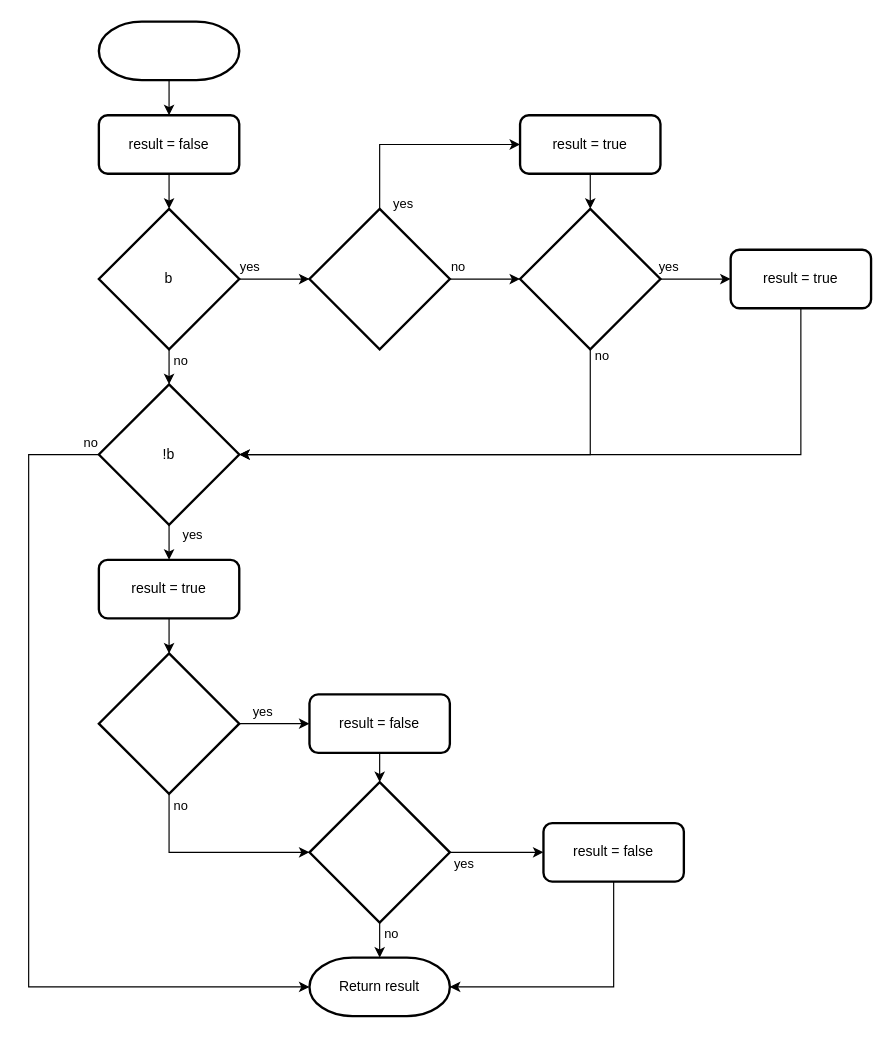
Some shapes in this 893 by 1037 pixel diagram are drawn without their labels. Each missing label, with the centre of its shape:
"(i <= -3 AND i >= -6) OR (i >= 3 AND i <= 6)" belongs at point 379,851.
"(i <= 3 AND i > 0) OR i > 6" belongs at point 589,278.
"(i >= -3 AND i < 0) OR i < -6" belongs at point 379,278.
"i == 0" belongs at point 168,723.
"Start" belongs at point 168,50.
